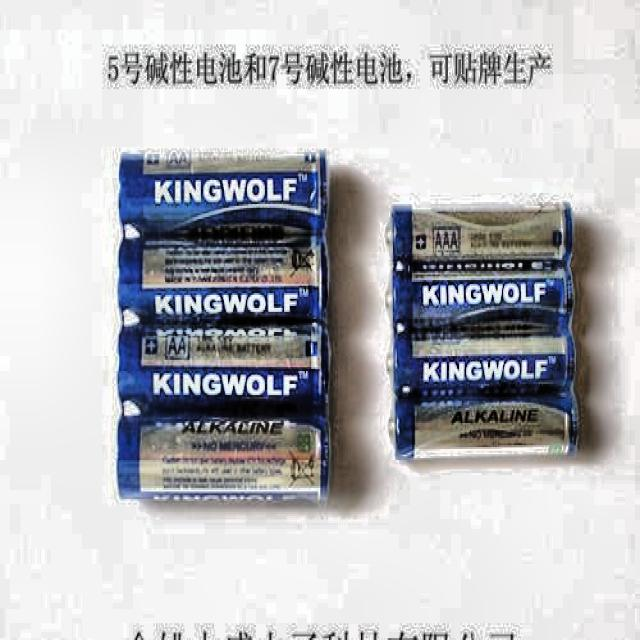Non-Valuable Waste - Batteries: (119, 154, 329, 501), (391, 207, 579, 457)
